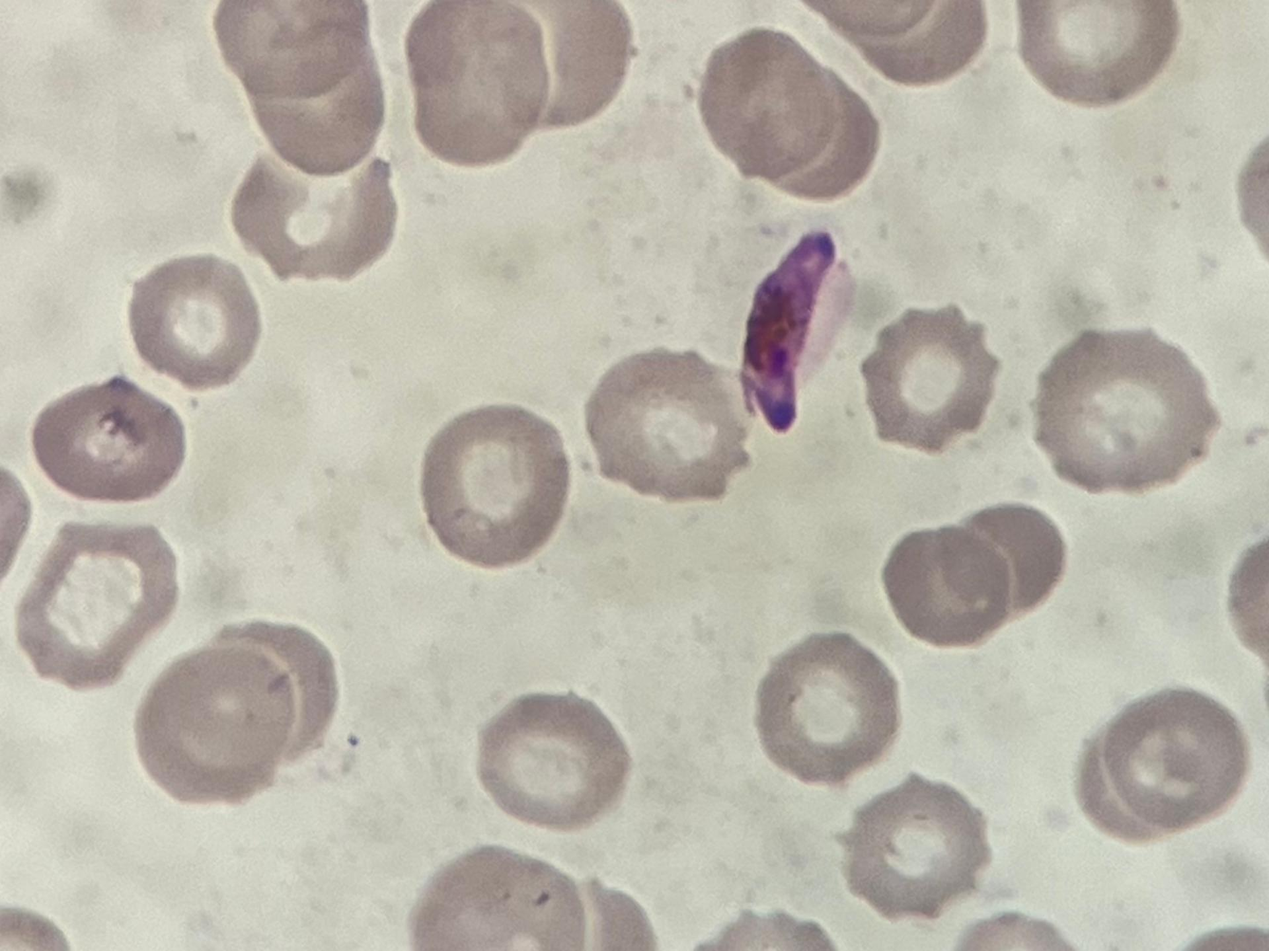Infected: (737, 228, 853, 432)
Uninfected: (1034, 331, 1212, 496), (13, 522, 176, 694), (132, 640, 292, 808), (582, 346, 748, 501), (228, 134, 397, 284), (405, 0, 553, 171), (421, 407, 567, 570), (844, 774, 990, 925), (1100, 688, 1249, 833), (753, 633, 899, 780), (482, 689, 634, 830), (859, 304, 999, 454), (697, 25, 831, 179), (36, 374, 184, 505), (126, 251, 264, 390), (410, 848, 588, 951), (250, 53, 389, 180), (1016, 0, 1176, 106), (215, 0, 371, 102), (509, 0, 631, 128), (882, 524, 1010, 645), (763, 70, 880, 202), (957, 503, 1071, 623)
